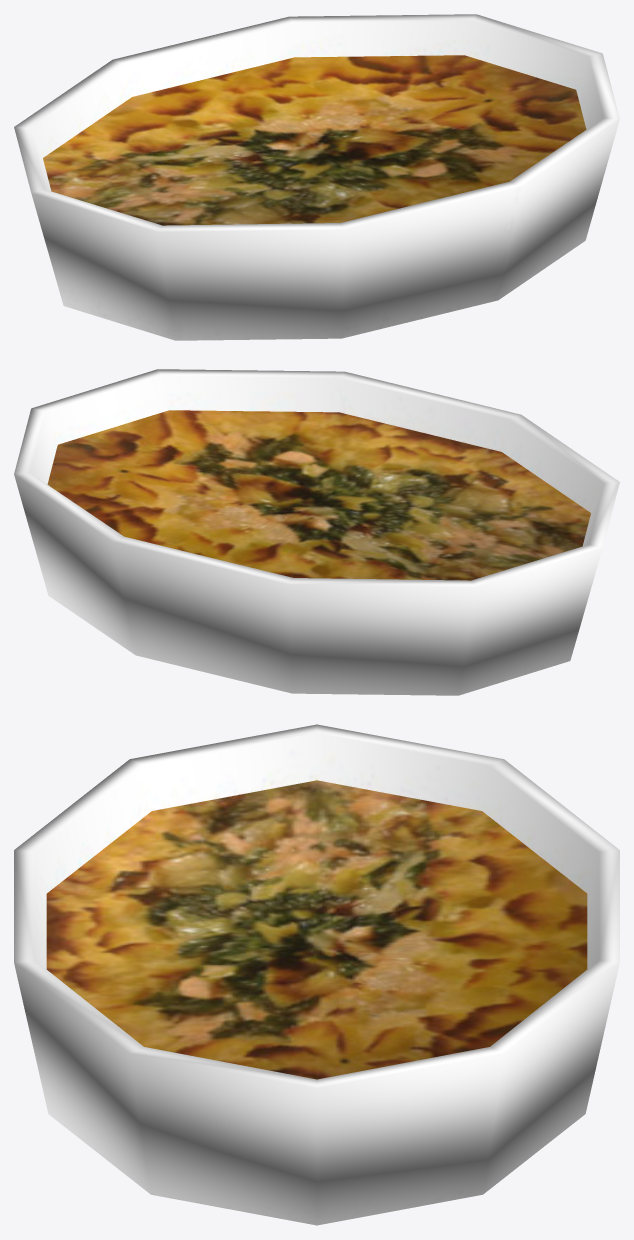
File: Grain_vi.fbx
3 renders of one model, top to bottom at view 1: azimuth 30°, elevation 25°; view 2: azimuth 150°, elevation 25°; view 3: azimuth 270°, elevation 25°, orthographic. The views are drawn at different scales.
Parts seen in each view (by area): view 1: Gratin; view 2: Gratin; view 3: Gratin.
Part boxes in pixels (bbox=[...]): Gratin: bbox=[14, 14, 619, 340]; Gratin: bbox=[14, 369, 619, 695]; Gratin: bbox=[14, 724, 619, 1225].
Bounding box in the file's own units: 0.0037 × 0.000748 × 0.0026.
Materials: 1 (1 with a texture image).
